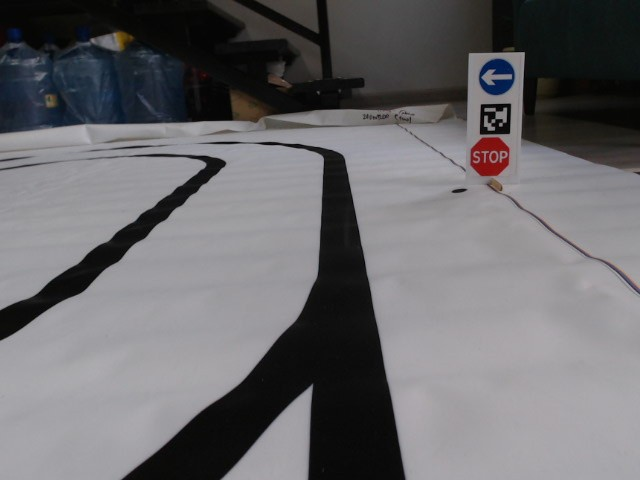Stop: (469, 136, 510, 176)
